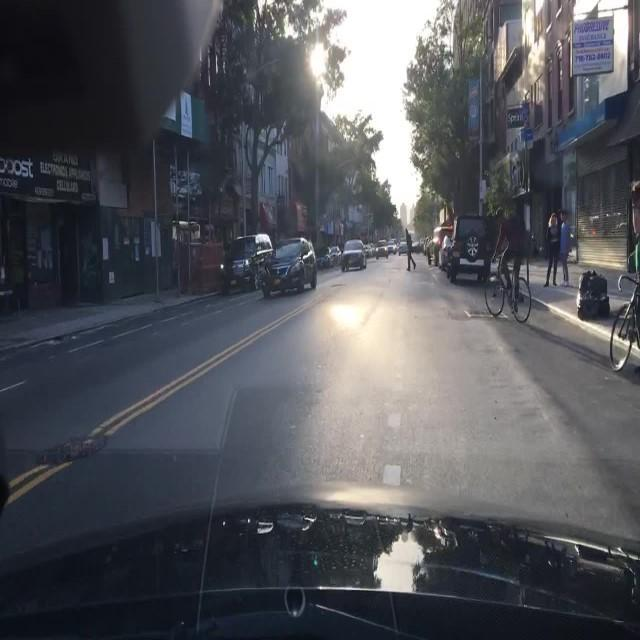normal: (457, 193, 552, 335), (258, 240, 318, 297), (340, 239, 367, 270)
